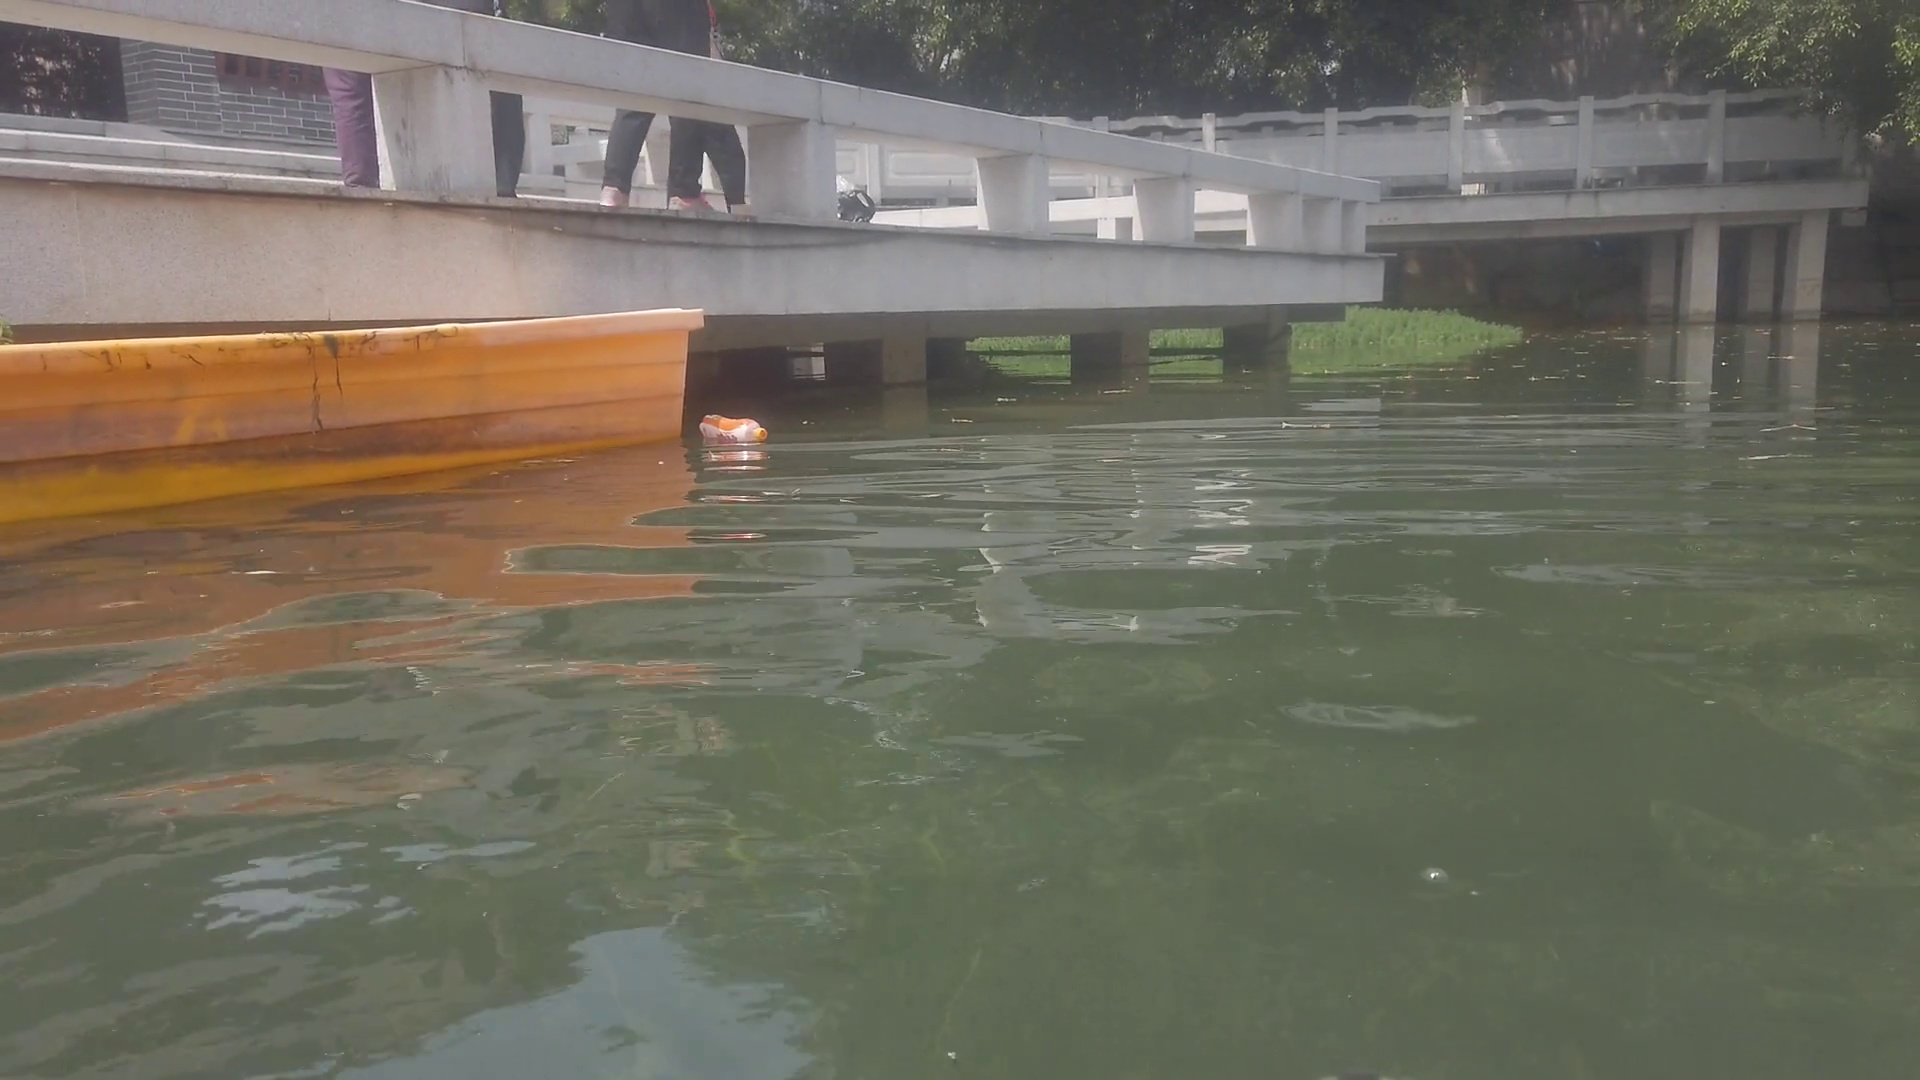bottle: (698, 414, 770, 443)
